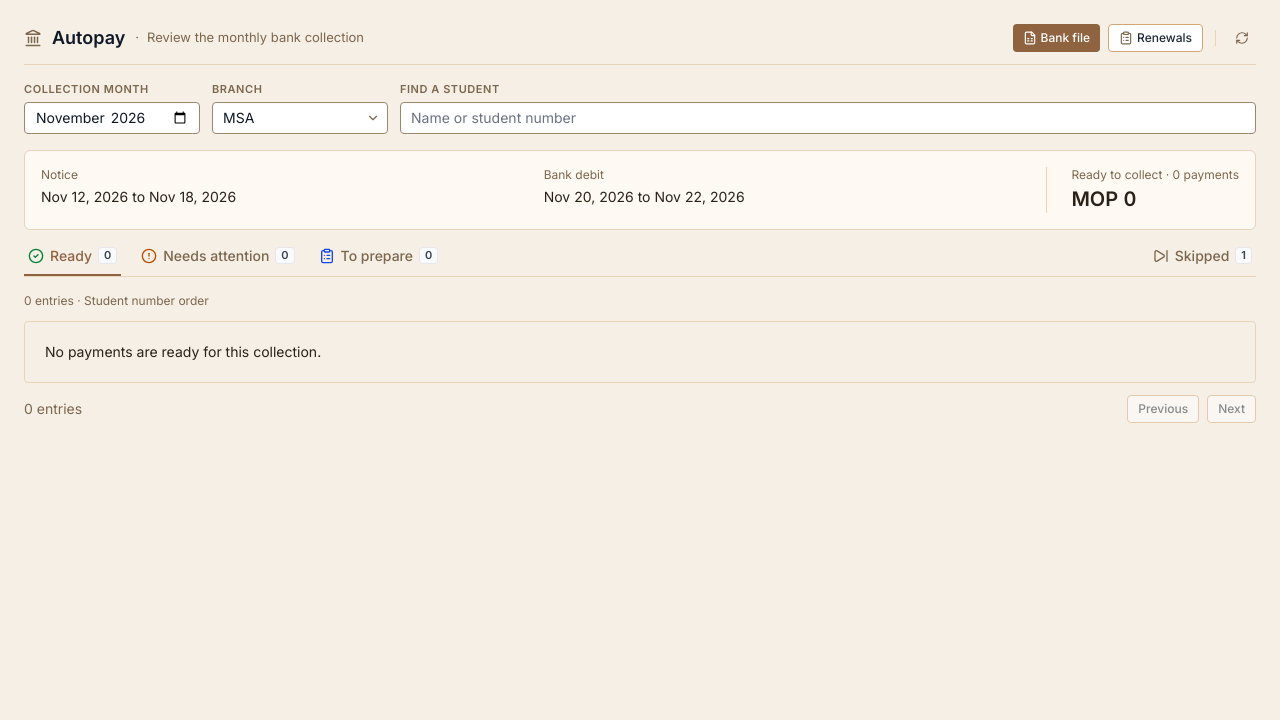
autopay collection review › shows a proven legacy prepayment without inventing a payment or amount
Click the tab "Skipped 1" at (1202, 260), box [1149, 246, 1256, 276]
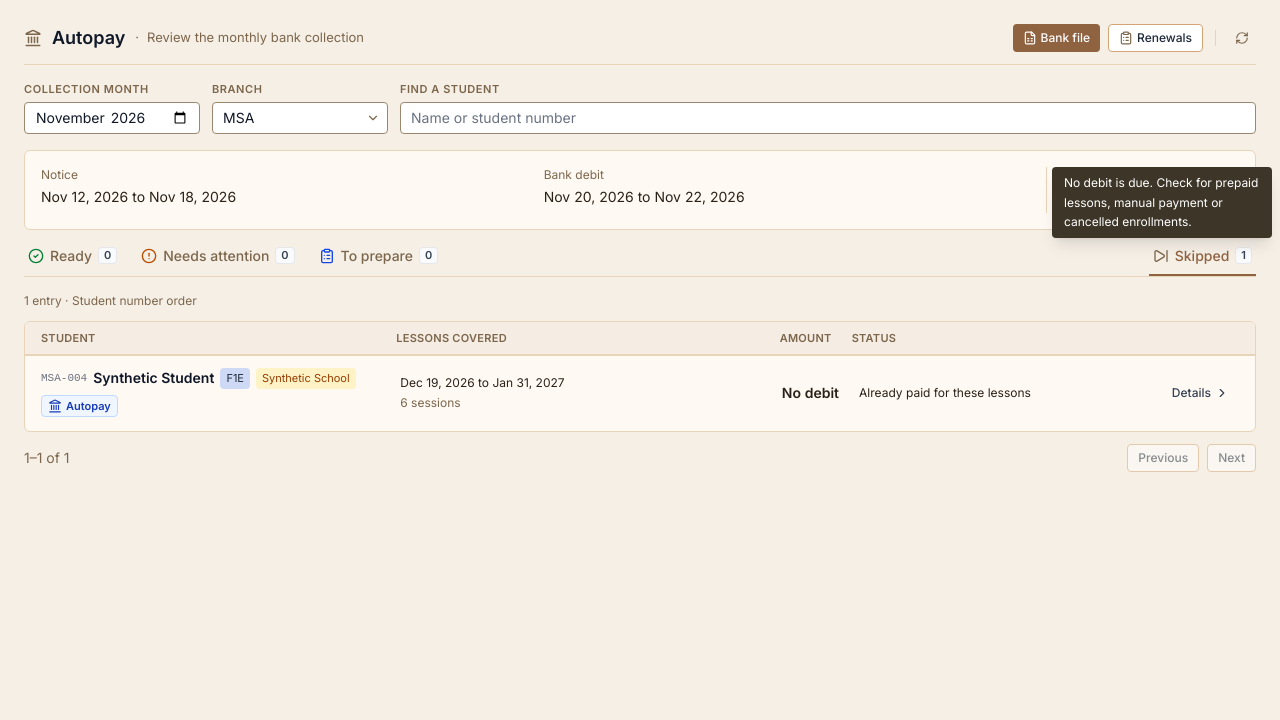
Expected: the text "No debit" is shown, [782, 384, 839, 401]
Click the button with aria-label "Details for Synthetic Student" at (1200, 393), box [1162, 379, 1239, 407]
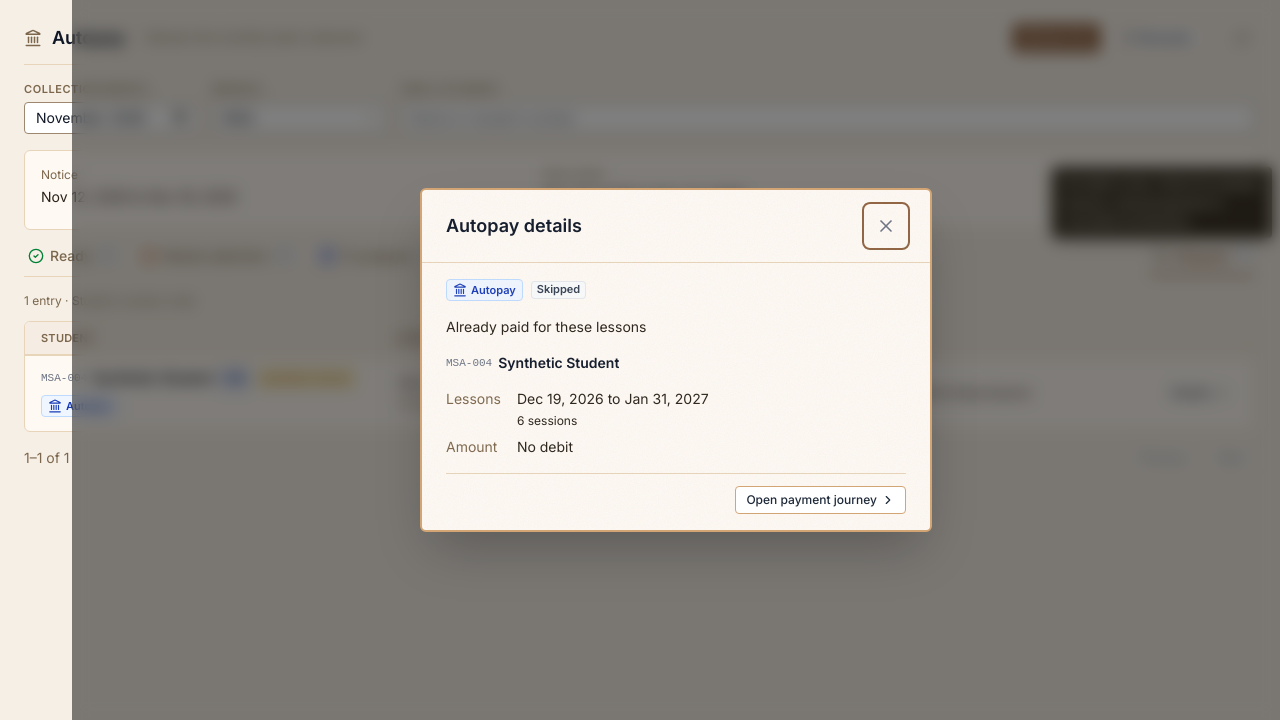
Expected: the text "No debit" is shown, [517, 438, 573, 455]
